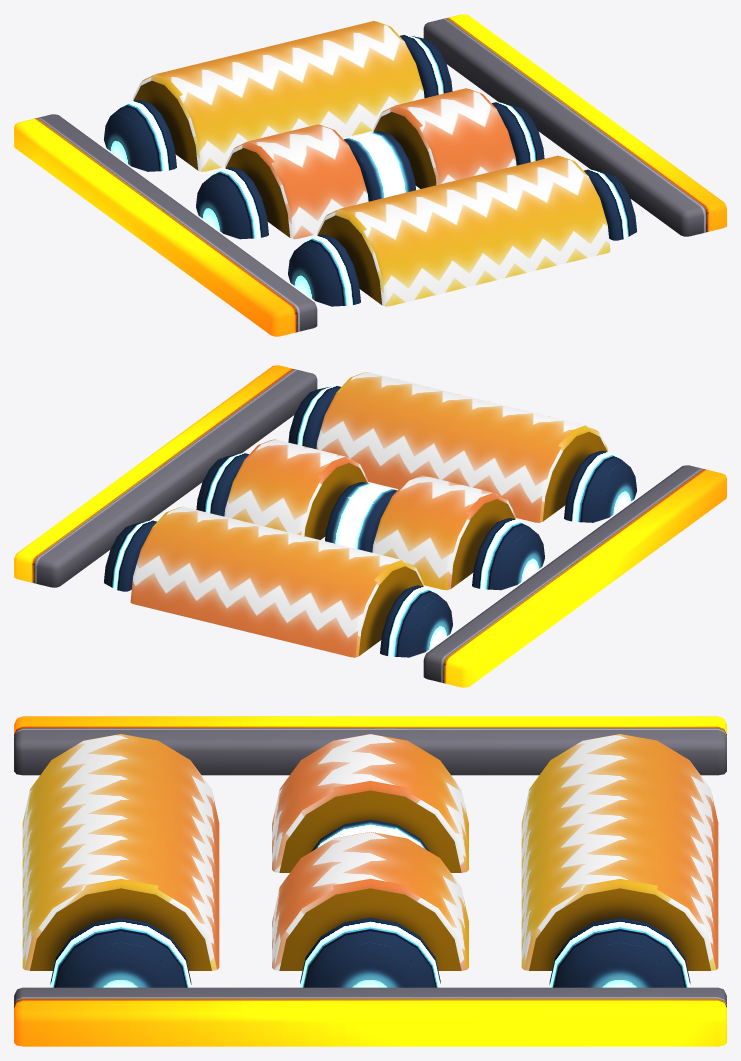
File: static.Speed-Booster-03.glb
3 views of the same model, one above another, from view 1: azimuth 30°, elevation 25°; view 2: azimuth 150°, elevation 25°; view 3: azimuth 270°, elevation 25° (orthographic). The views are drawn at different scales.
Visible parts, largest first — view 1: static.Speed Booster 03; view 2: static.Speed Booster 03; view 3: static.Speed Booster 03.
Part boxes in pixels (box(x1,y1,x2,y2)): static.Speed Booster 03: box(14, 14, 726, 336); static.Speed Booster 03: box(14, 365, 726, 687); static.Speed Booster 03: box(14, 716, 726, 1046).
Size of the model in its own units: 1.33 by 0.1846 by 1.33.
Materials: 2 (2 with a texture image).
